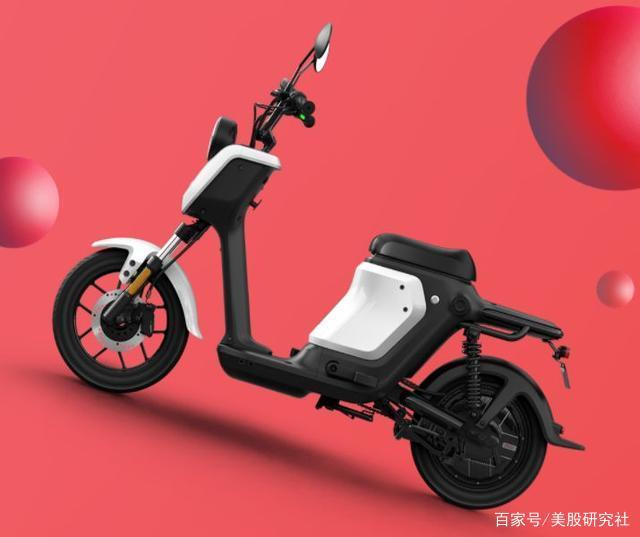电动车: (41, 9, 600, 516)
